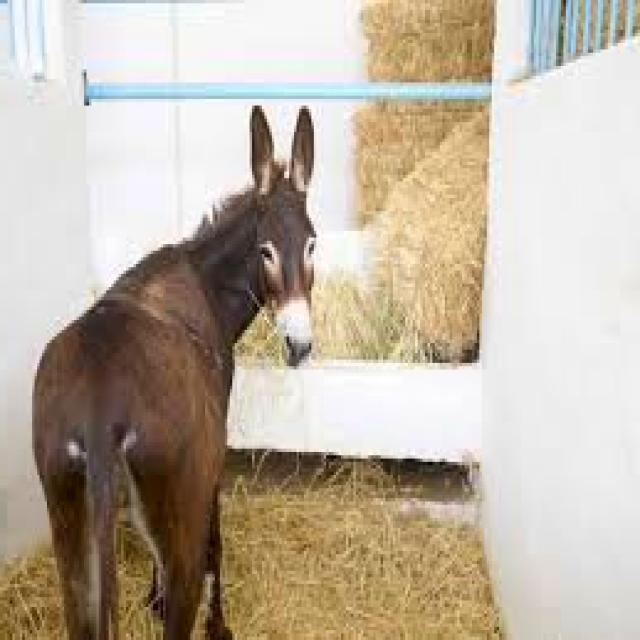donkey: (35, 106, 316, 637)
